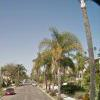Palm tree: (31, 26, 75, 95)
